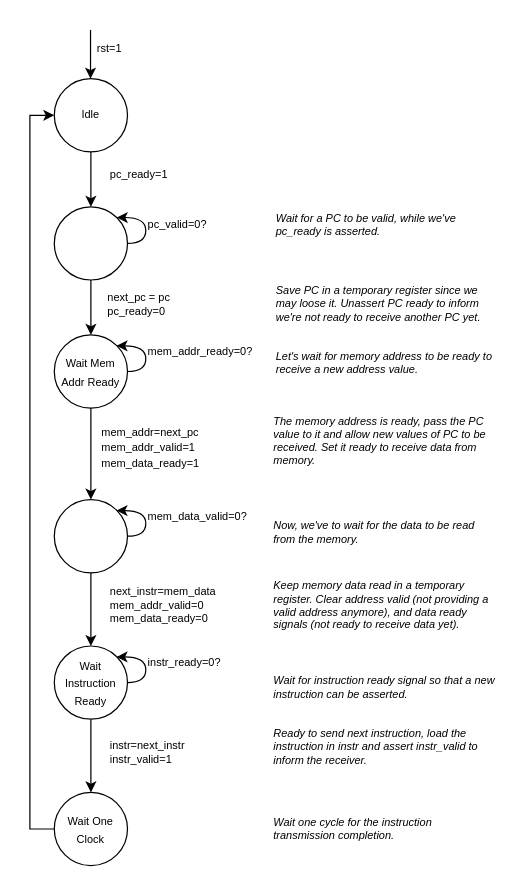
This 517x887 diagram has some shape labels left out. The centre of each missing label's shape, as x and y in pixels:
Wait Mem Data Valid: pixel 90 535
Wait PC Valid: pixel 90 243
